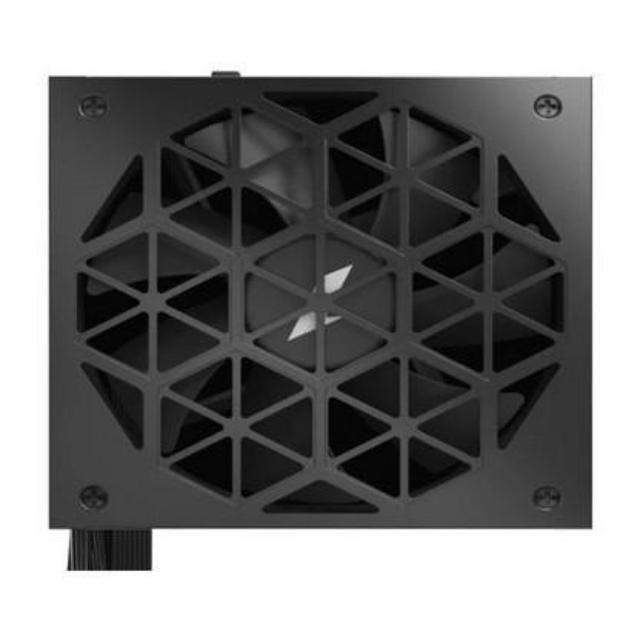PSU: (35, 62, 610, 574)
